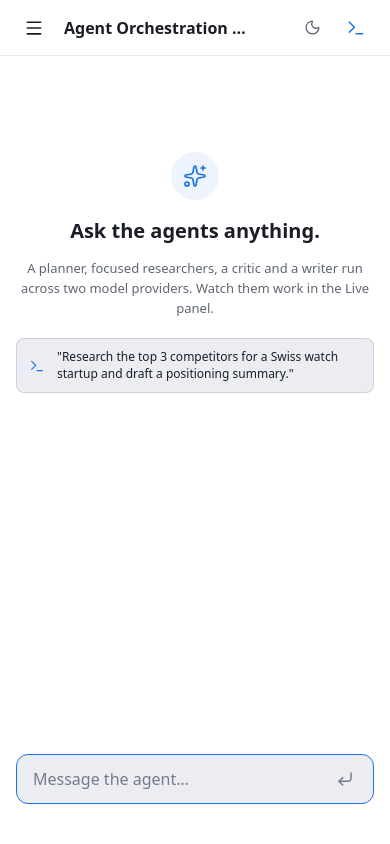
Test: AppShell — mobile drawer focus management (F-006) › shows both panel tabs in the mobile drawer
Click the button named "Show agent trace". click: (356, 28)
box: [338, 10, 374, 46]
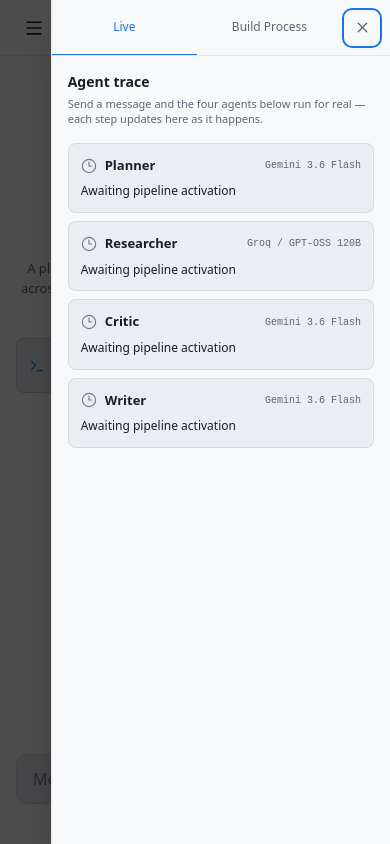
Now the heading "Agent trace" is shown, box [68, 72, 150, 91]
